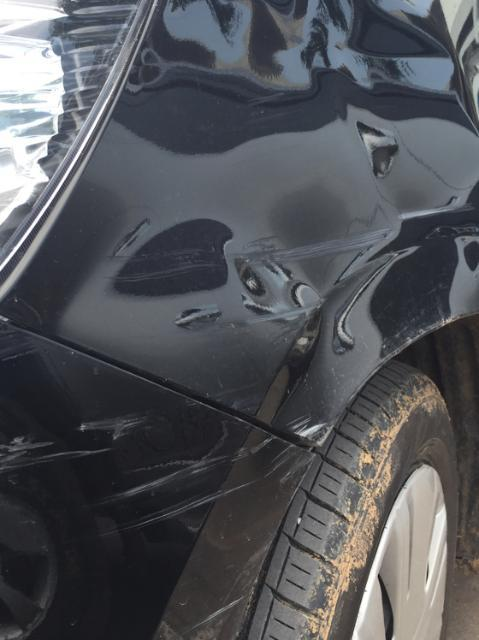Bumper: (7, 370, 309, 640)
Fender: (105, 0, 479, 392)
